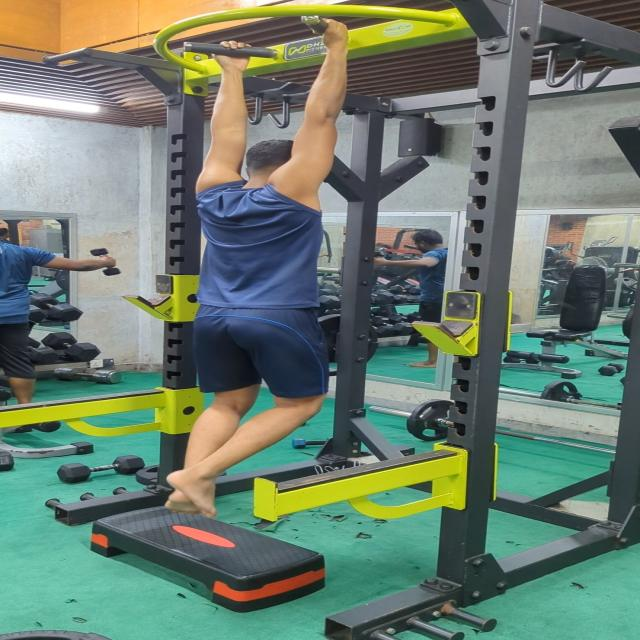Normal_PullUps: (143, 13, 354, 522)
